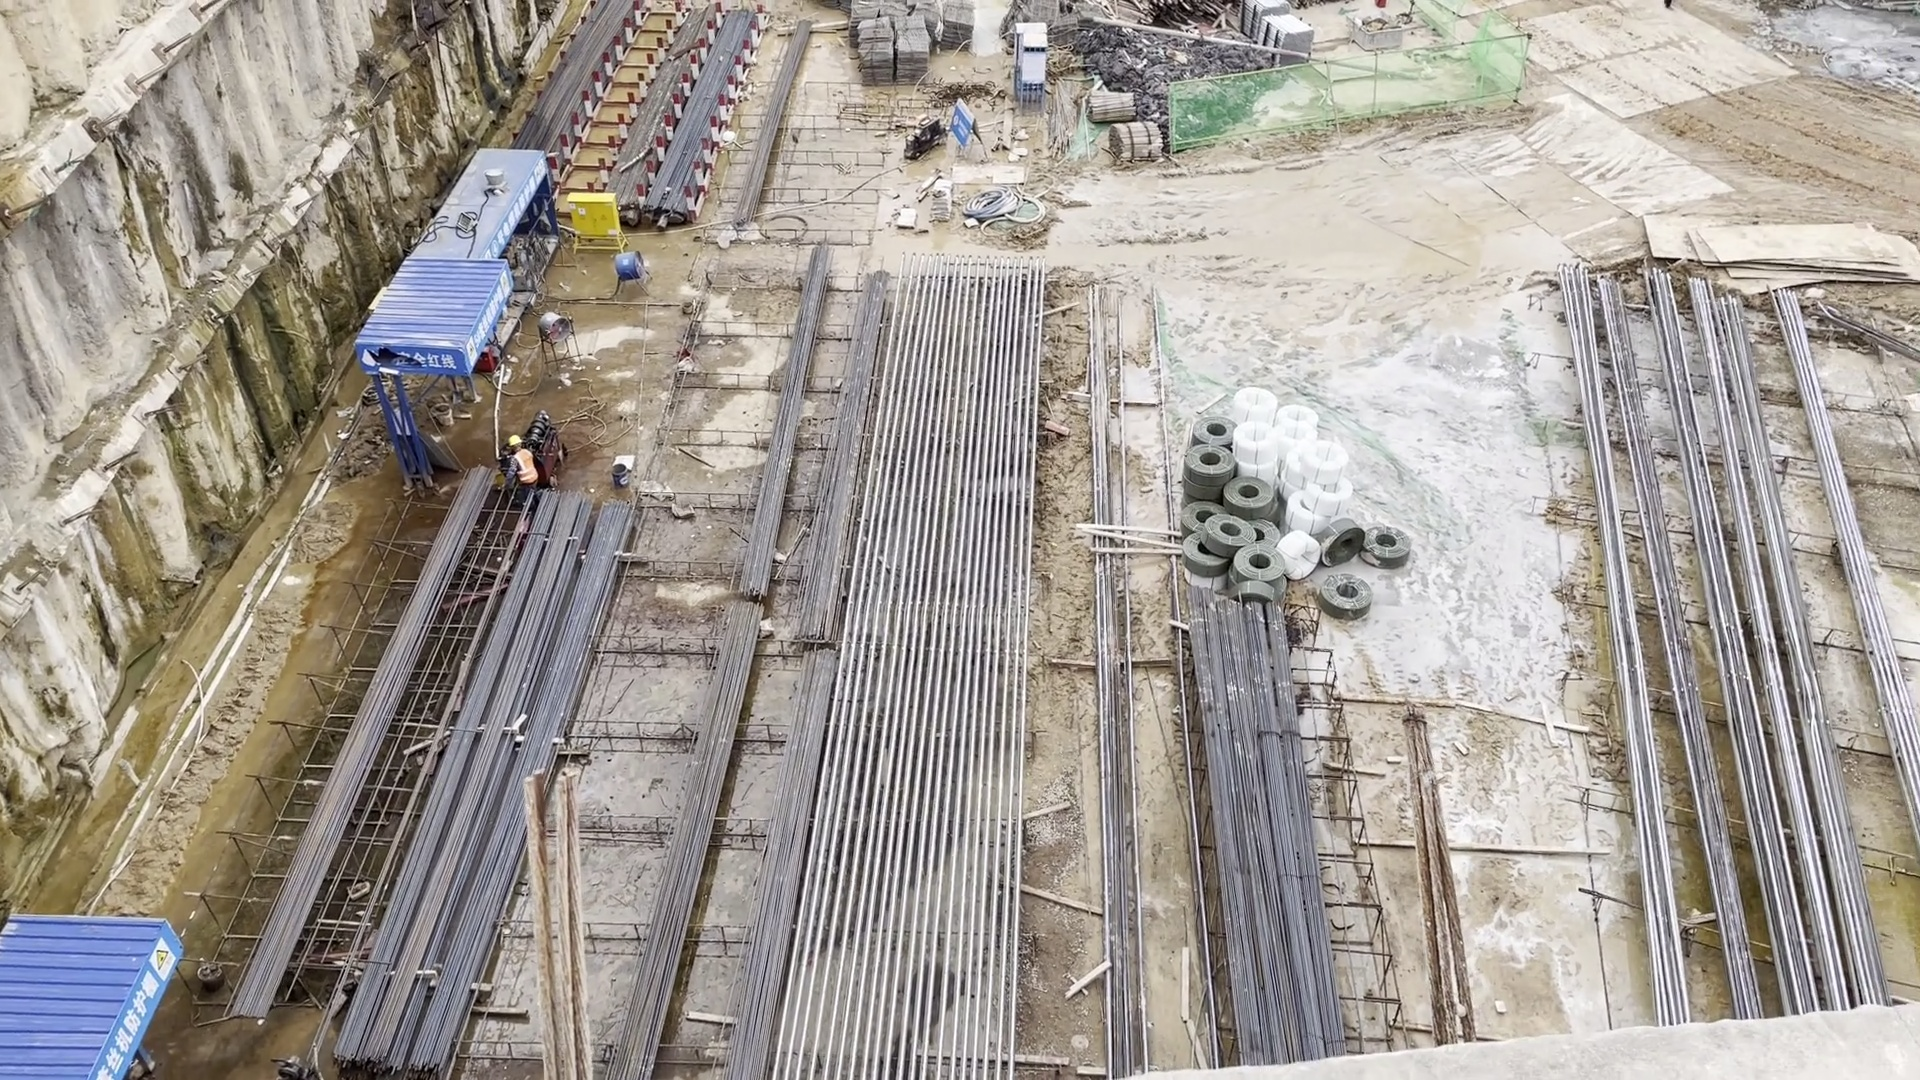brick: (1247, 3, 1310, 68)
ebox: (563, 190, 629, 253)
helmet: (506, 435, 526, 448)
hopper: (1347, 11, 1407, 55)
person: (503, 432, 538, 491)
rebar: (1557, 273, 1878, 1033), (693, 243, 889, 1080), (347, 496, 616, 1079), (1186, 572, 1343, 1077), (219, 803, 327, 1037), (731, 19, 821, 228), (639, 1, 722, 231), (562, 1, 618, 188)
slogan: (97, 952, 181, 1080), (489, 156, 549, 254), (466, 267, 514, 360), (358, 343, 467, 373)
vest: (514, 451, 536, 484)
